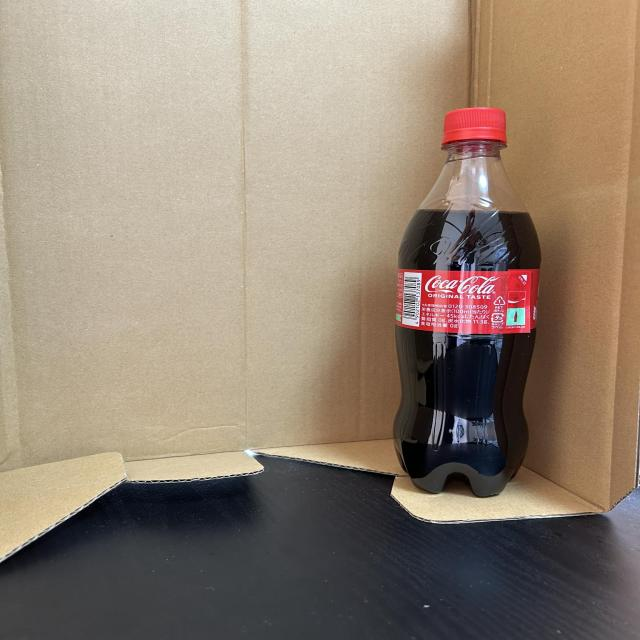high: (393, 107, 541, 496)
